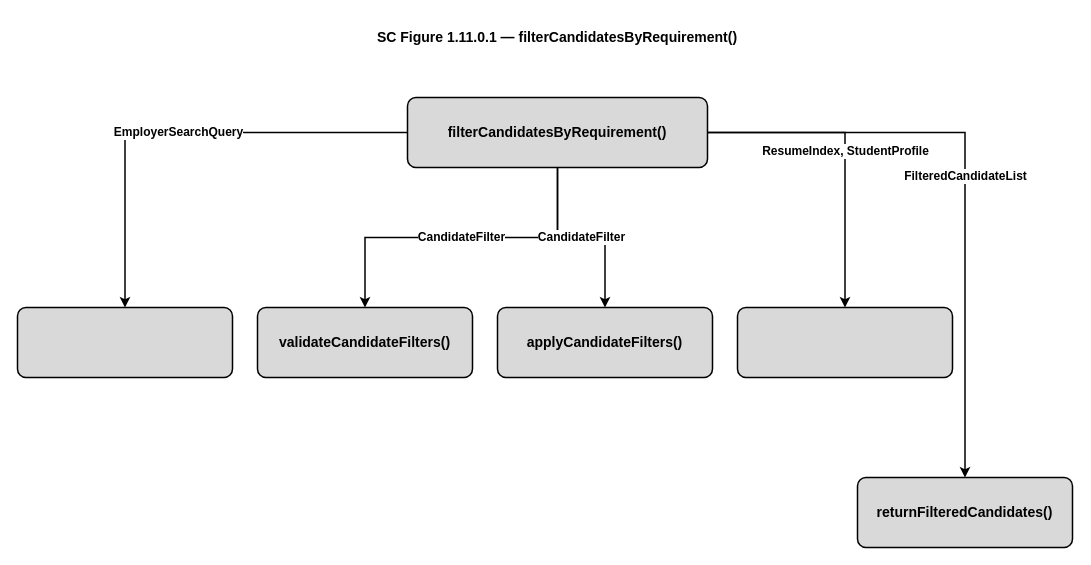
Image size: 1091x565. Some labels were removed from this diagram. Here are the shapes that lost their labels. From the top down, the centre of each, then its label:
the point at 124,342: receiveEmployerSearchQuery()
the point at 844,342: retrieveMatchingResumes()
